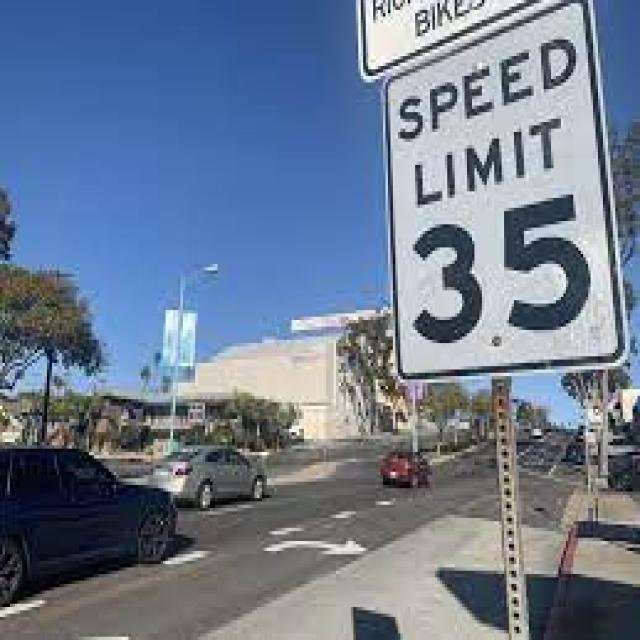Speed Limit Signs: (364, 0, 630, 386)
